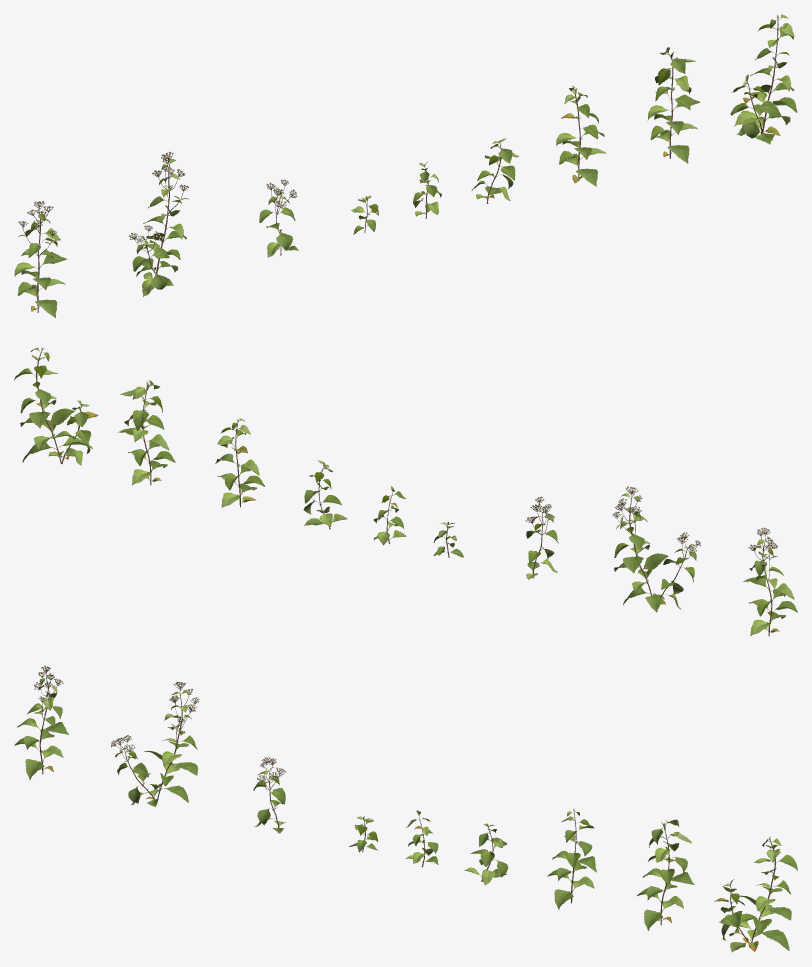
File: shrub_01.glb
3 renders of one model, top to bottom at view 1: azimuth 30°, elevation 25°; view 2: azimuth 150°, elevation 25°; view 3: azimuth 330°, elevation 25°, orthographic. The views are drawn at different scales.
Visible parts, largest first — view 1: shrub_01_a_i_mesh, shrub_01_a_b_mesh, shrub_01_a_h_mesh, shrub_01_a_a_mesh, shrub_01_a_g_mesh, shrub_01_a_c_mesh, shrub_01_a_f_mesh, shrub_01_a_e_mesh; view 2: shrub_01_a_b_mesh, shrub_01_a_i_mesh, shrub_01_a_h_mesh, shrub_01_a_a_mesh, shrub_01_a_g_mesh, shrub_01_a_c_mesh, shrub_01_a_f_mesh, shrub_01_a_e_mesh; view 3: shrub_01_a_i_mesh, shrub_01_a_b_mesh, shrub_01_a_h_mesh, shrub_01_a_a_mesh, shrub_01_a_g_mesh, shrub_01_a_c_mesh, shrub_01_a_f_mesh, shrub_01_a_e_mesh.
Part boxes in pixels (<box>): shrub_01_a_i_mesh: <box>730,14,797,144</box>; shrub_01_a_b_mesh: <box>129,151,189,296</box>; shrub_01_a_h_mesh: <box>647,47,700,163</box>; shrub_01_a_a_mesh: <box>14,201,67,317</box>; shrub_01_a_g_mesh: <box>556,85,606,186</box>; shrub_01_a_c_mesh: <box>259,179,298,257</box>; shrub_01_a_f_mesh: <box>471,138,518,203</box>; shrub_01_a_e_mesh: <box>413,161,441,218</box>; shrub_01_a_b_mesh: <box>612,486,700,612</box>; shrub_01_a_i_mesh: <box>14,347,98,465</box>; shrub_01_a_h_mesh: <box>117,380,175,485</box>; shrub_01_a_a_mesh: <box>743,527,797,636</box>; shrub_01_a_g_mesh: <box>215,418,264,507</box>; shrub_01_a_c_mesh: <box>525,496,558,579</box>; shrub_01_a_f_mesh: <box>303,460,347,529</box>; shrub_01_a_e_mesh: <box>373,486,406,545</box>; shrub_01_a_i_mesh: <box>714,836,797,952</box>; shrub_01_a_b_mesh: <box>111,681,199,806</box>; shrub_01_a_h_mesh: <box>637,819,694,930</box>; shrub_01_a_a_mesh: <box>14,665,69,779</box>; shrub_01_a_g_mesh: <box>547,809,597,909</box>; shrub_01_a_c_mesh: <box>253,757,286,833</box>; shrub_01_a_f_mesh: <box>464,823,508,885</box>; shrub_01_a_e_mesh: <box>405,810,438,867</box>.
Size of the model in its own units: 2.59 by 0.3955 by 0.2184.
1 material, 1 textured.
